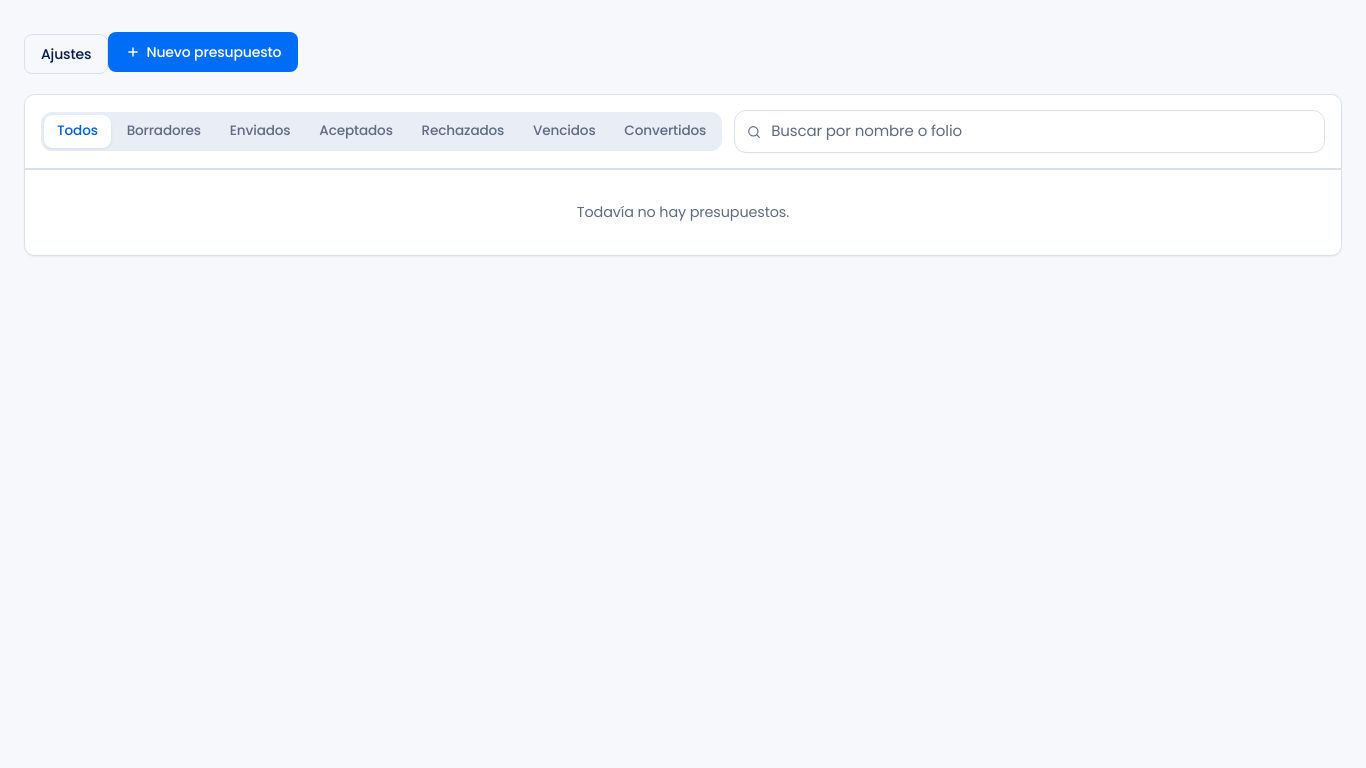
it: presupuestos › si el catálogo falla, los ajustes llegan igual; sin permiso de armar, no se pide
What coordinates should you click on to do the following:
click the button "Ajustes"
I would click on:
 (66, 54)
Its box is top-left (24, 34), bottom-right (108, 74).
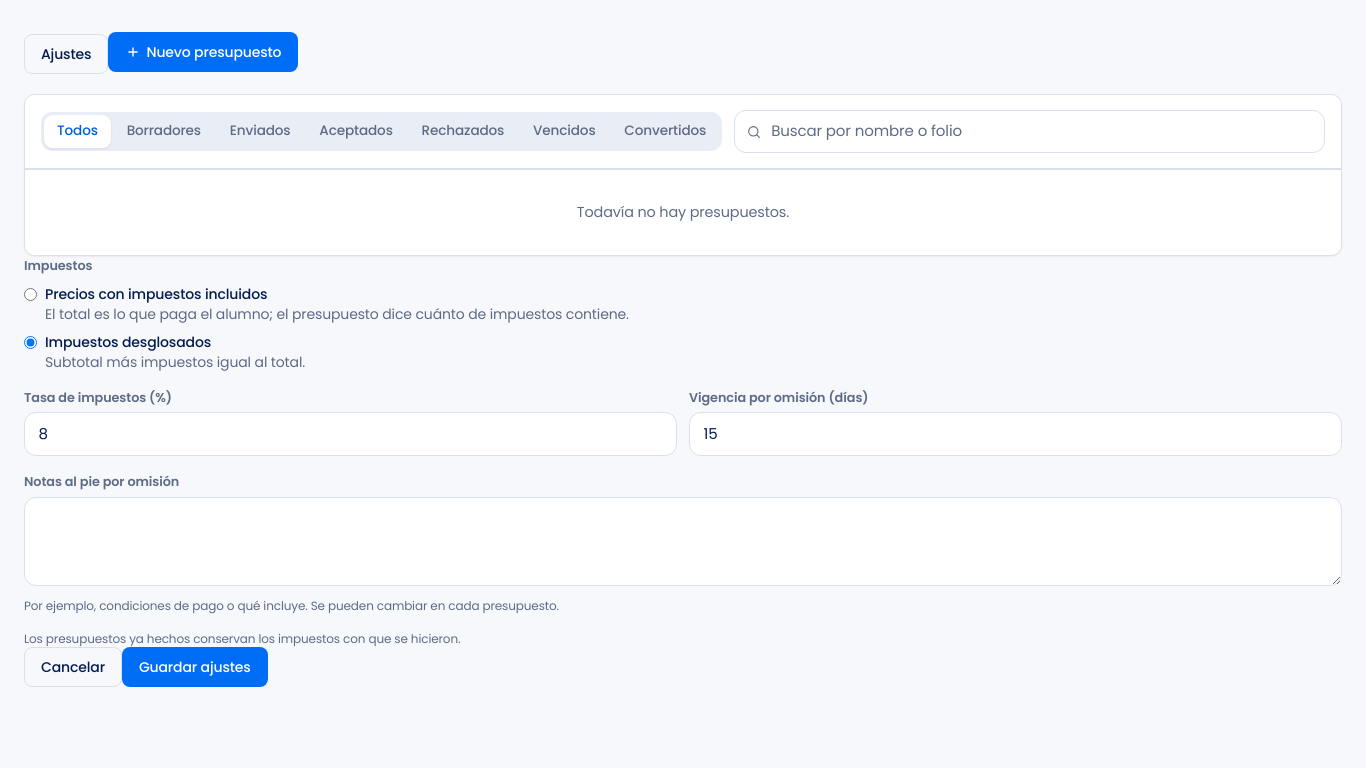
Expected: the field labelled "Tasa de impuestos (%)" holds "8", top-left (24, 412), bottom-right (677, 456)
